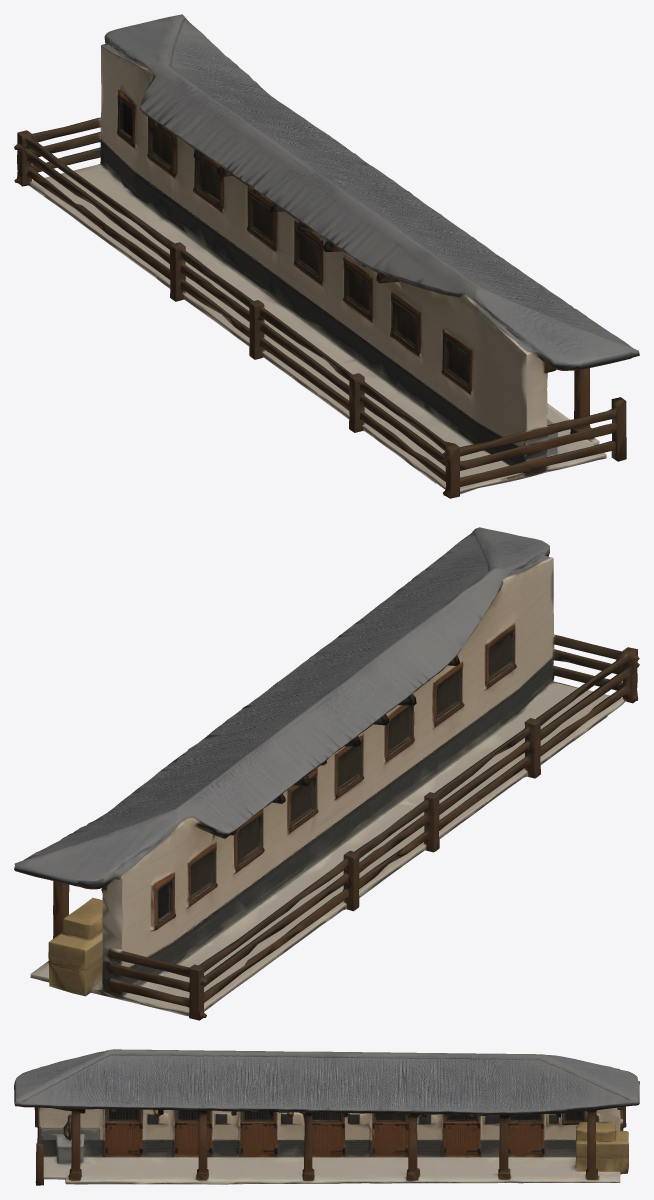
The model's file is stable-row.glb.
The picture shows the model from 3 angles, top to bottom: view 1: azimuth 30°, elevation 25°; view 2: azimuth 150°, elevation 25°; view 3: azimuth 270°, elevation 25°; orthographic projection. The views are drawn at different scales.
Parts seen in each view (by area): view 1: tripo_node_50ab71ae-1dcf-48eb-9675-13842c5224f0; view 2: tripo_node_50ab71ae-1dcf-48eb-9675-13842c5224f0; view 3: tripo_node_50ab71ae-1dcf-48eb-9675-13842c5224f0.
Part boxes in pixels (x1,y1,x2,y2): tripo_node_50ab71ae-1dcf-48eb-9675-13842c5224f0: (14,14,639,498); tripo_node_50ab71ae-1dcf-48eb-9675-13842c5224f0: (14,527,639,1020); tripo_node_50ab71ae-1dcf-48eb-9675-13842c5224f0: (14,1049,639,1185).
Size of the model in its own units: 0.2291 by 0.1871 by 1.
1 material, 1 textured.
